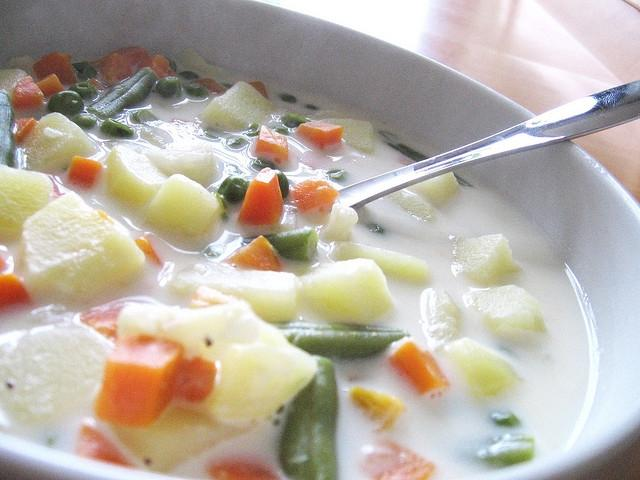carrot: (95, 335, 185, 429), (358, 440, 436, 480), (392, 342, 449, 394), (238, 168, 286, 226), (80, 302, 140, 345), (76, 424, 131, 466), (172, 356, 216, 406), (225, 235, 285, 271), (285, 177, 340, 215), (205, 456, 281, 480), (32, 52, 80, 86), (295, 120, 344, 152), (252, 126, 288, 163), (92, 52, 132, 82), (68, 154, 102, 188), (12, 76, 44, 112), (0, 274, 32, 310), (136, 54, 178, 79), (134, 235, 163, 265), (33, 72, 64, 100), (114, 46, 150, 66), (13, 117, 38, 144), (191, 78, 228, 94), (249, 82, 269, 100), (89, 78, 103, 92)
green bean: (278, 355, 338, 477), (378, 128, 474, 188), (272, 322, 408, 360), (95, 69, 156, 120), (86, 67, 152, 114), (242, 226, 318, 262), (476, 434, 535, 468), (0, 91, 16, 168), (100, 118, 134, 137), (490, 408, 520, 429), (366, 224, 384, 235)
